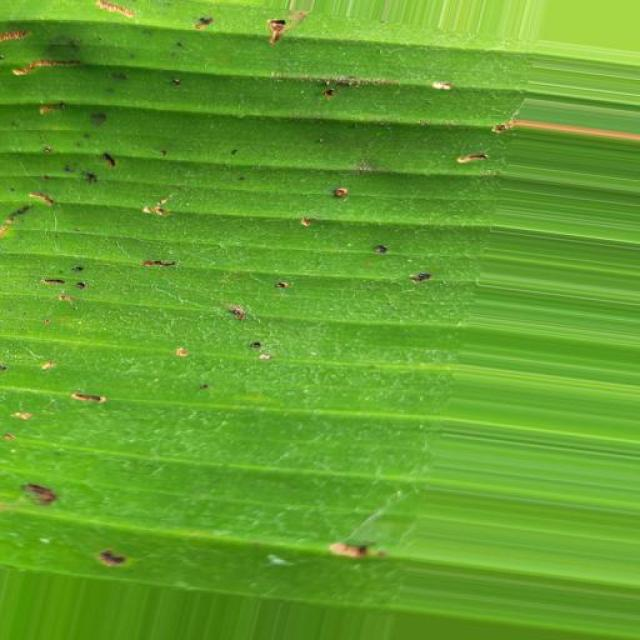Black_rot: (0, 3, 508, 594)
